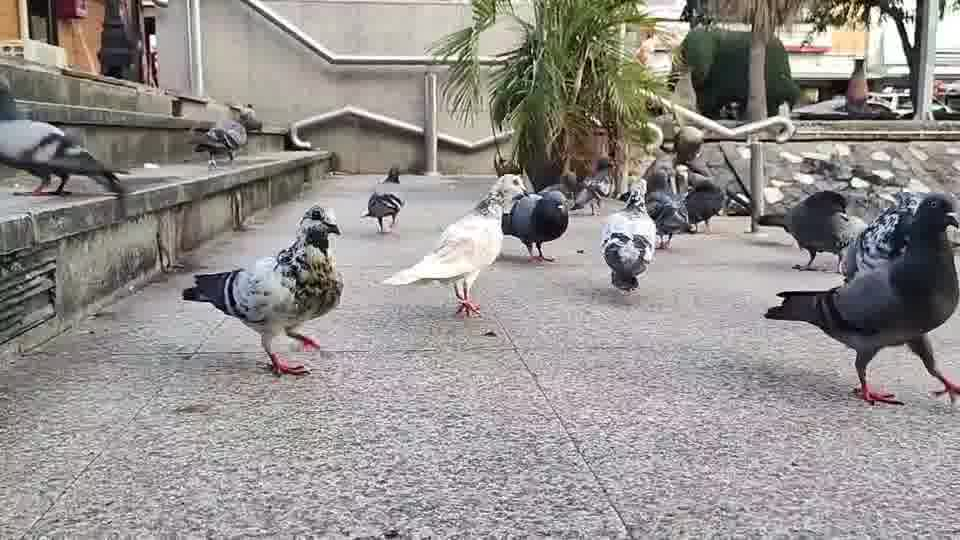Pigeon: (762, 191, 958, 406), (181, 203, 344, 376), (379, 173, 528, 318), (842, 190, 958, 282), (0, 117, 130, 197), (756, 189, 850, 272), (598, 180, 657, 296), (500, 185, 569, 264), (186, 119, 247, 169), (359, 190, 406, 233), (376, 165, 400, 184)
